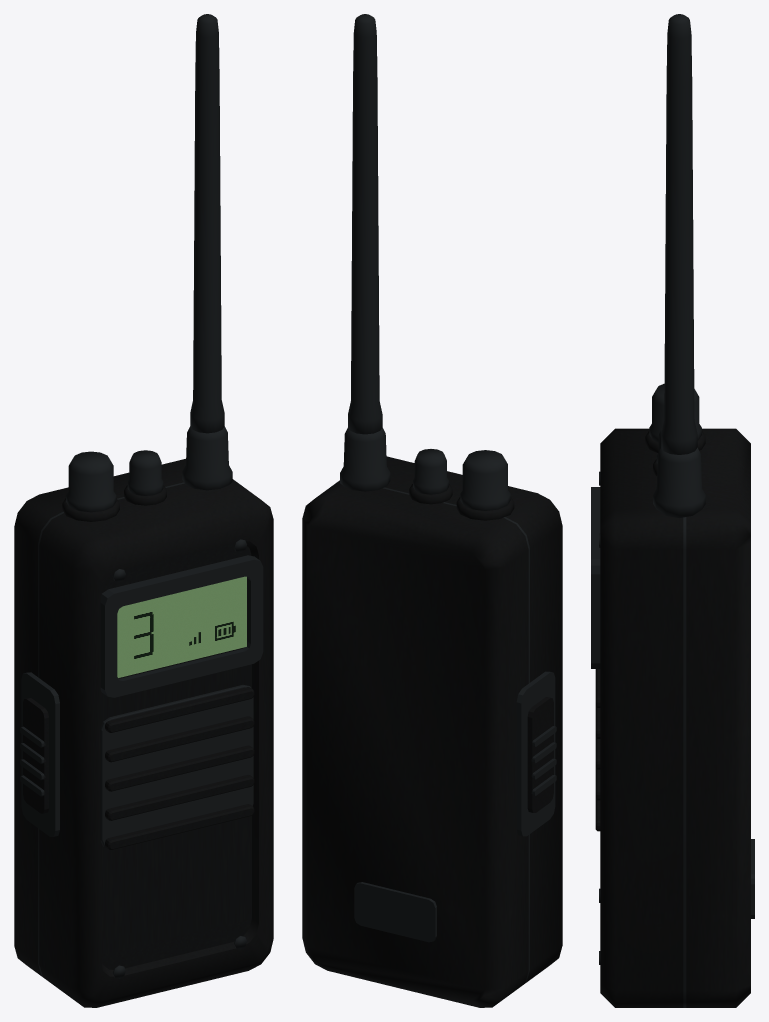
The model's file is dispatch-radio-r1.glb.
The picture shows the model from 3 angles, left to right: view 1: azimuth 30°, elevation 25°; view 2: azimuth 150°, elevation 25°; view 3: azimuth 270°, elevation 25°; orthographic projection. The views are drawn at different scales.
Visible parts, largest first — view 1: DispatchRadio; view 2: DispatchRadio; view 3: DispatchRadio.
Part boxes in pixels (left/top/right/bottom): DispatchRadio: left=14, top=14, right=273, bottom=1007; DispatchRadio: left=302, top=14, right=562, bottom=1007; DispatchRadio: left=591, top=14, right=754, bottom=1007.
Bounding box in the file's own units: 0.0689 × 0.2875 × 0.0434.
3 materials, 2 textured.
